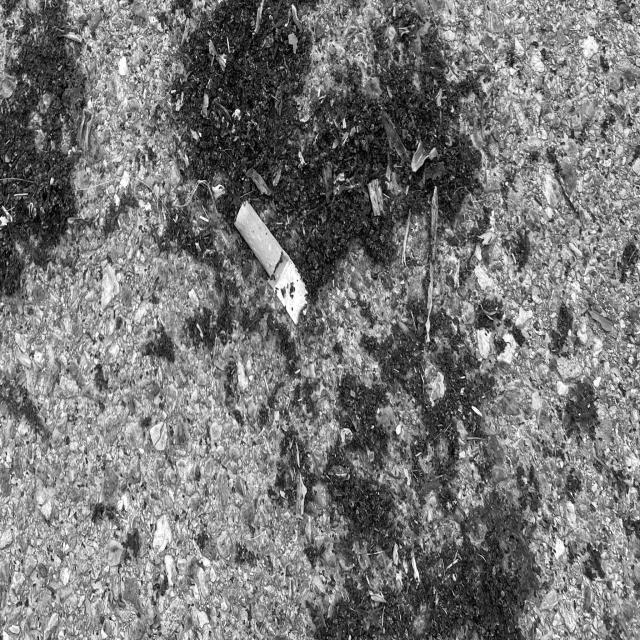other waste: (233, 198, 324, 338)
